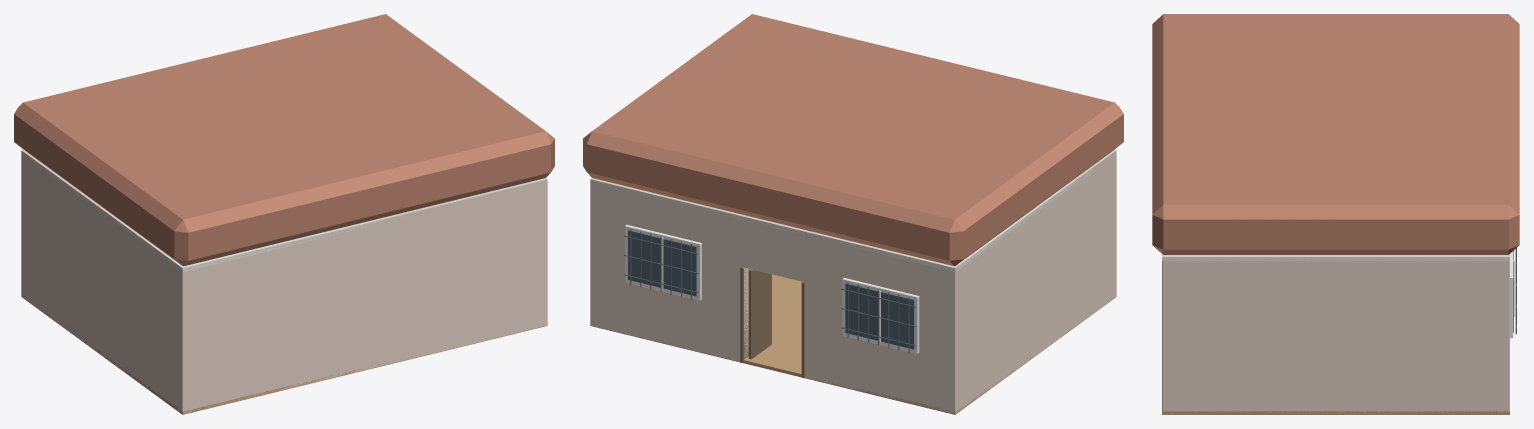
File: Sultanbeyli_PeachCornerHouse.fbx
The picture shows the model from 3 angles, left to right: view 1: azimuth 30°, elevation 25°; view 2: azimuth 150°, elevation 25°; view 3: azimuth 270°, elevation 25°; orthographic projection. The views are drawn at different scales.
Visible parts, largest first — view 1: Sultanbeyli_PeachCornerHouse; view 2: Sultanbeyli_PeachCornerHouse; view 3: Sultanbeyli_PeachCornerHouse.
Part boxes in pixels (left/top/right/bottom): Sultanbeyli_PeachCornerHouse: left=14, top=14, right=554, bottom=414; Sultanbeyli_PeachCornerHouse: left=583, top=14, right=1123, bottom=414; Sultanbeyli_PeachCornerHouse: left=1152, top=14, right=1519, bottom=414.
Size of the model in its own units: 9.8 by 4.79 by 7.6.
